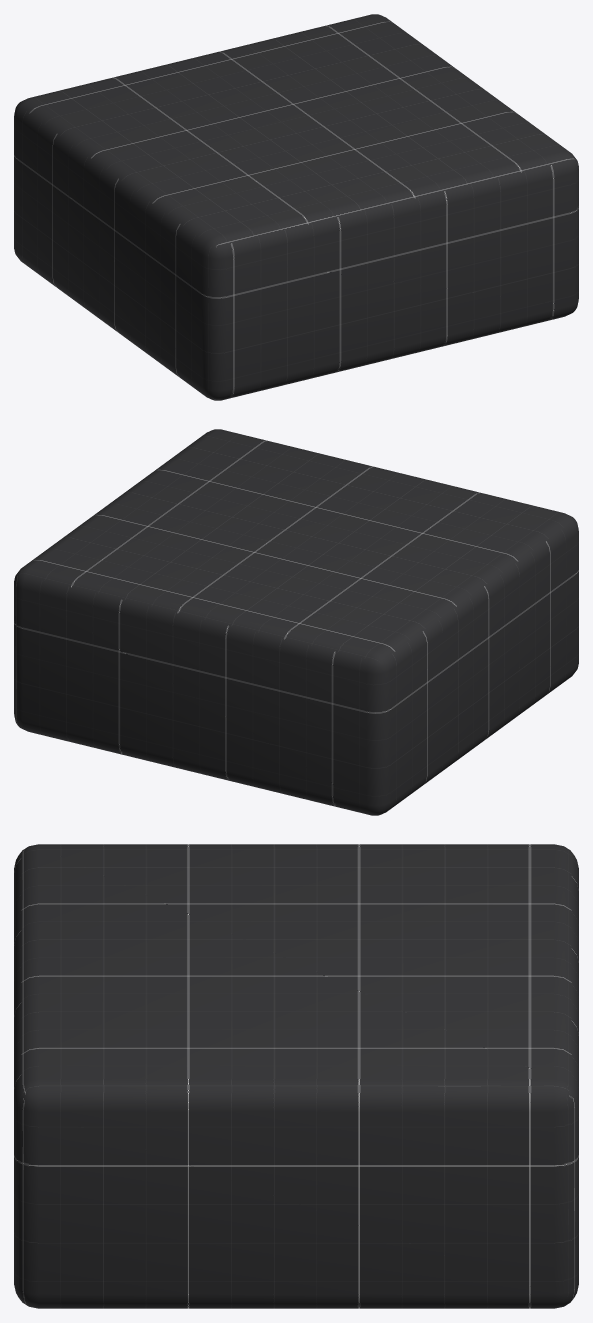
3 renders of one model, top to bottom at view 1: azimuth 30°, elevation 25°; view 2: azimuth 150°, elevation 25°; view 3: azimuth 270°, elevation 25°, orthographic. The views are drawn at different scales.
Parts seen in each view (by area): view 1: Cube; view 2: Cube; view 3: Cube.
Boxes of the visible parts, x1,y1,x2,y2 form: Cube: (14, 14, 578, 400); Cube: (14, 429, 578, 815); Cube: (14, 844, 578, 1308).
Bounding box in the file's own units: 4681 × 1955 × 4408.
Materials: 1 (1 with a texture image).
